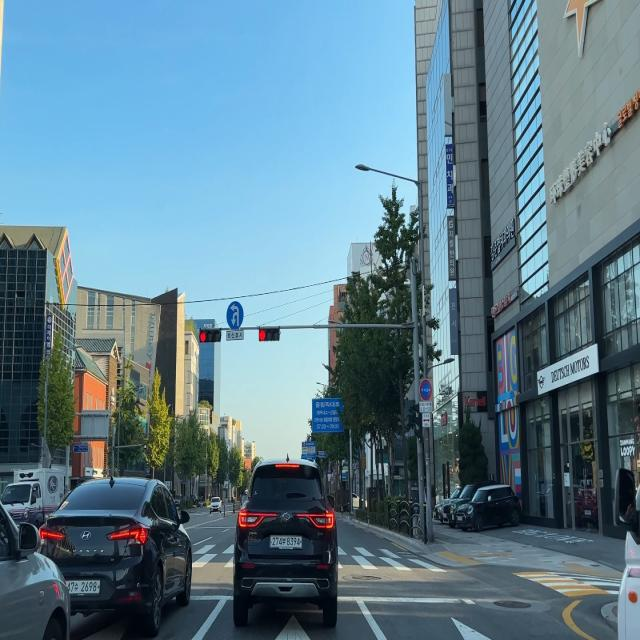Red Light: (258, 329, 266, 341), (199, 330, 206, 343)
